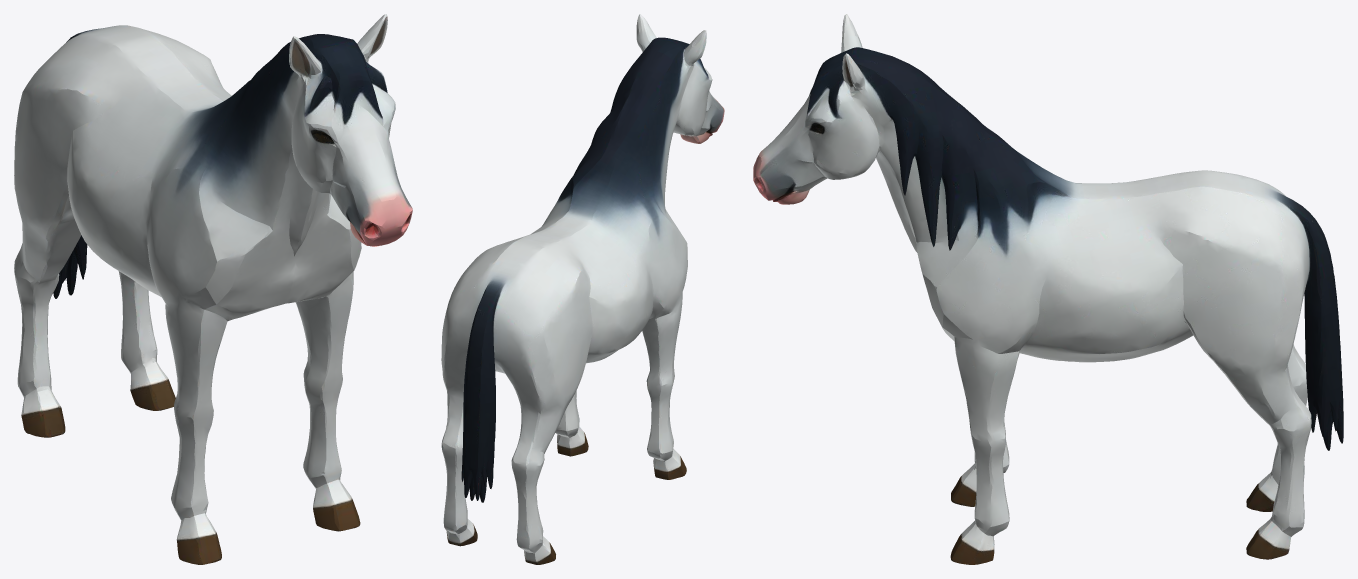
Rendered from horse-camargue.glb.
The picture shows the model from 3 angles, left to right: view 1: azimuth 30°, elevation 25°; view 2: azimuth 150°, elevation 25°; view 3: azimuth 270°, elevation 25°; orthographic projection. The views are drawn at different scales.
Visible parts, largest first — view 1: model; view 2: model; view 3: model.
Part boxes in pixels (<box>): model: <box>14,14,412,564</box>; model: <box>441,14,724,564</box>; model: <box>753,14,1343,564</box>.
Size of the model in its own units: 0.6264 by 1.75 by 1.89.
1 material, 1 textured.
